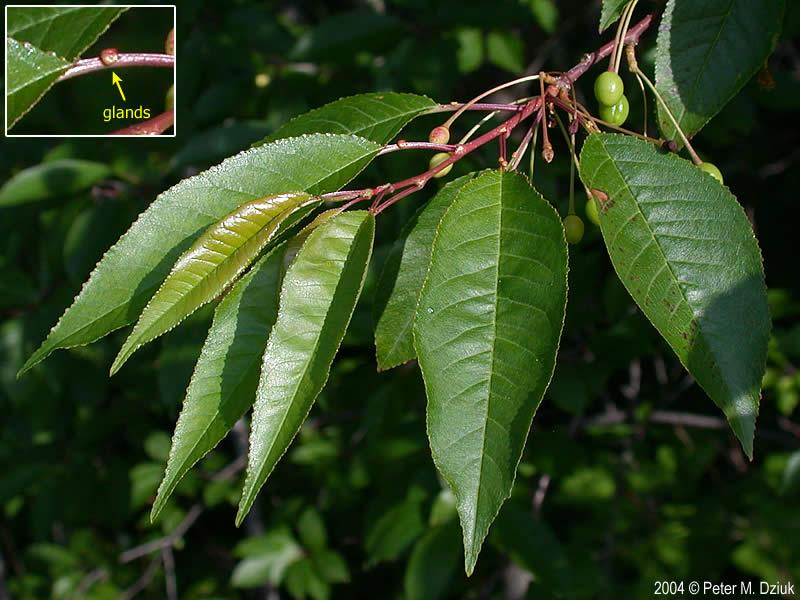Cherry leaf: (26, 131, 386, 378), (581, 109, 784, 476), (407, 155, 572, 590), (222, 197, 392, 539), (105, 176, 337, 387), (200, 87, 449, 209)
